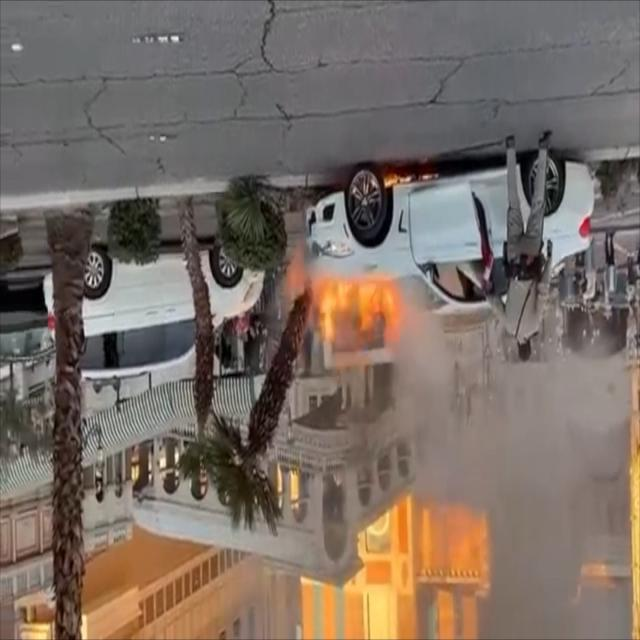fire: (296, 270, 413, 354)
